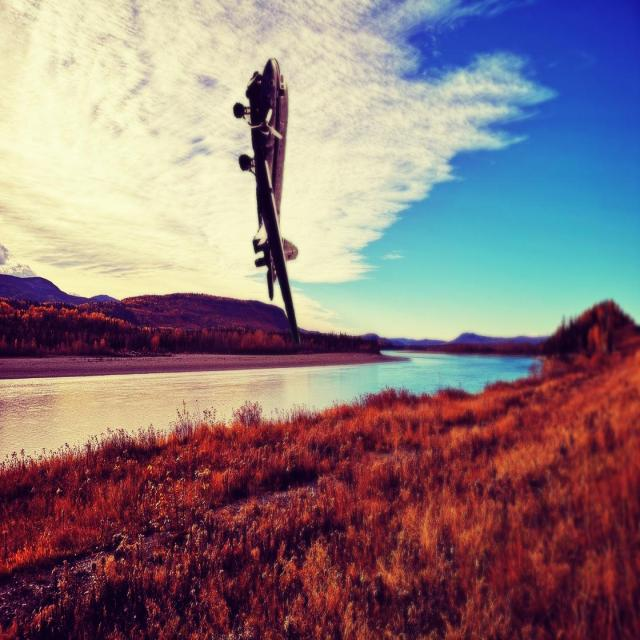airplane: (232, 56, 301, 346)
